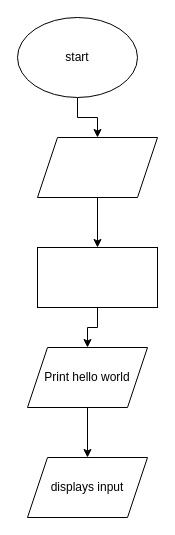
Some shapes in this 175 by 535 pixel diagram are drawn without their labels. Here are the shapes that lost their labels. From the top down, the centre of each, then its label:
the point at 97,167: insert number
the point at 97,277: range=input
